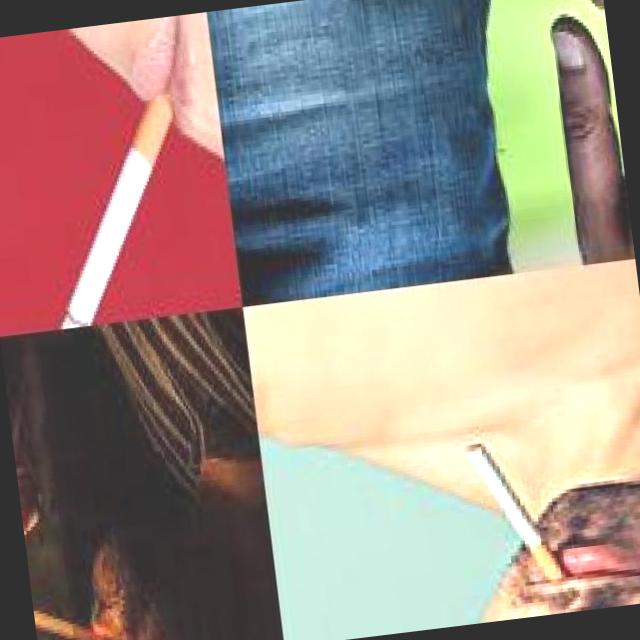cigarette: (13, 57, 210, 331), (463, 430, 574, 598), (34, 591, 107, 640)
